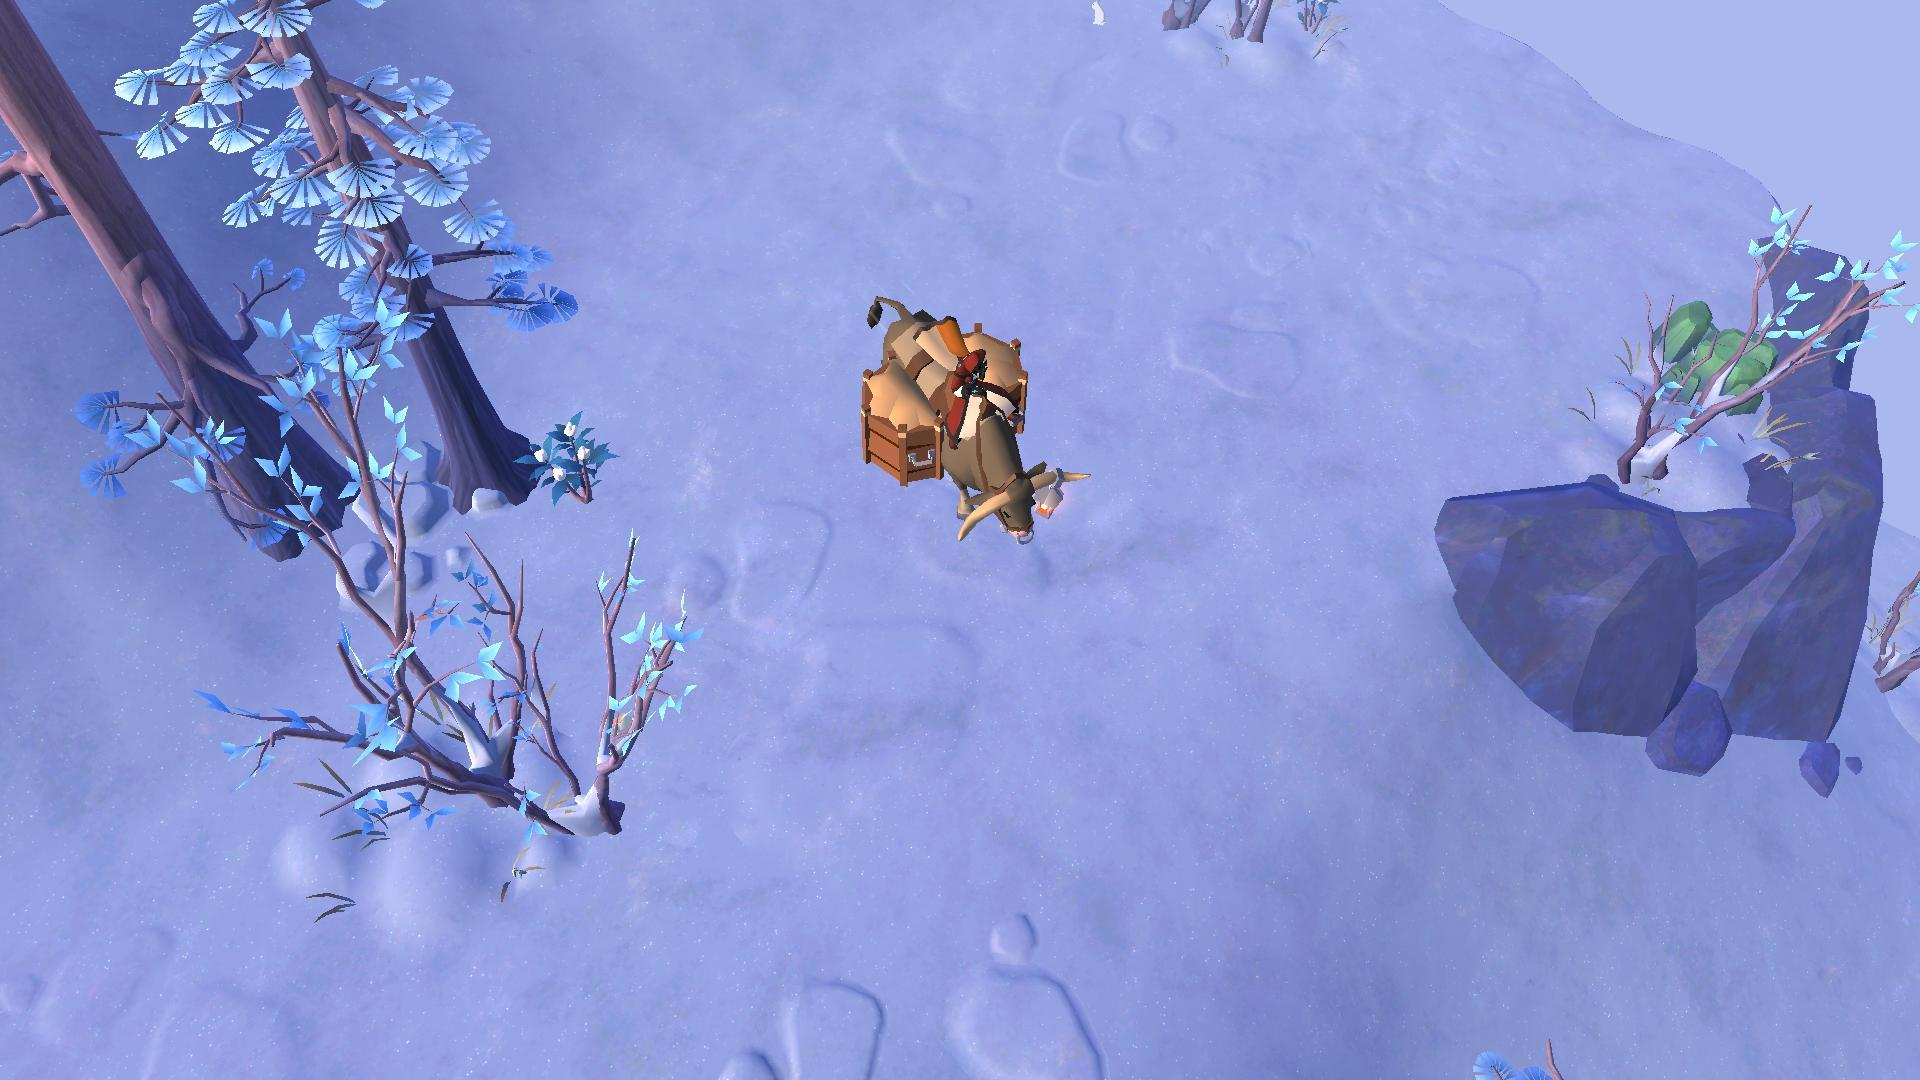fiber_t4: (521, 407, 608, 512)
rock_t3: (1639, 297, 1779, 409)
